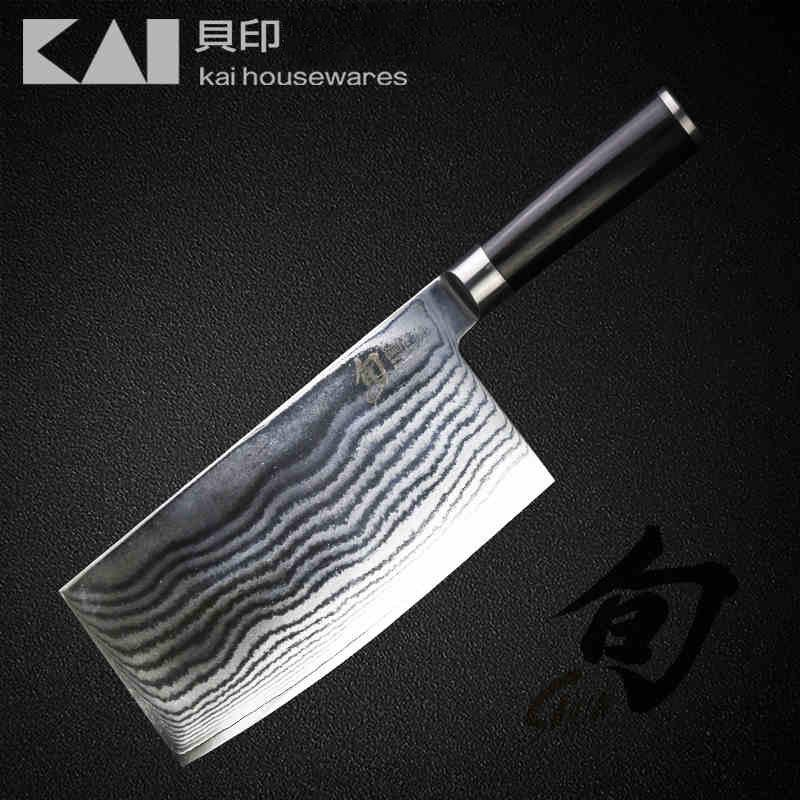knief: (92, 84, 689, 739)
